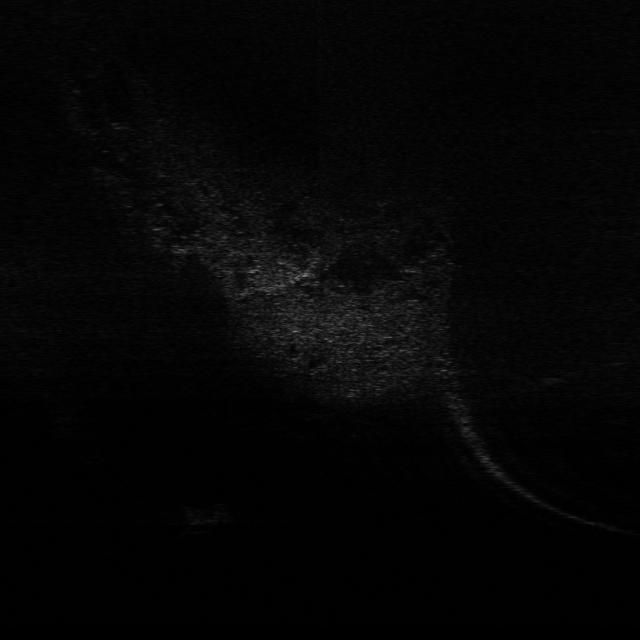cube: (181, 501, 233, 526)
